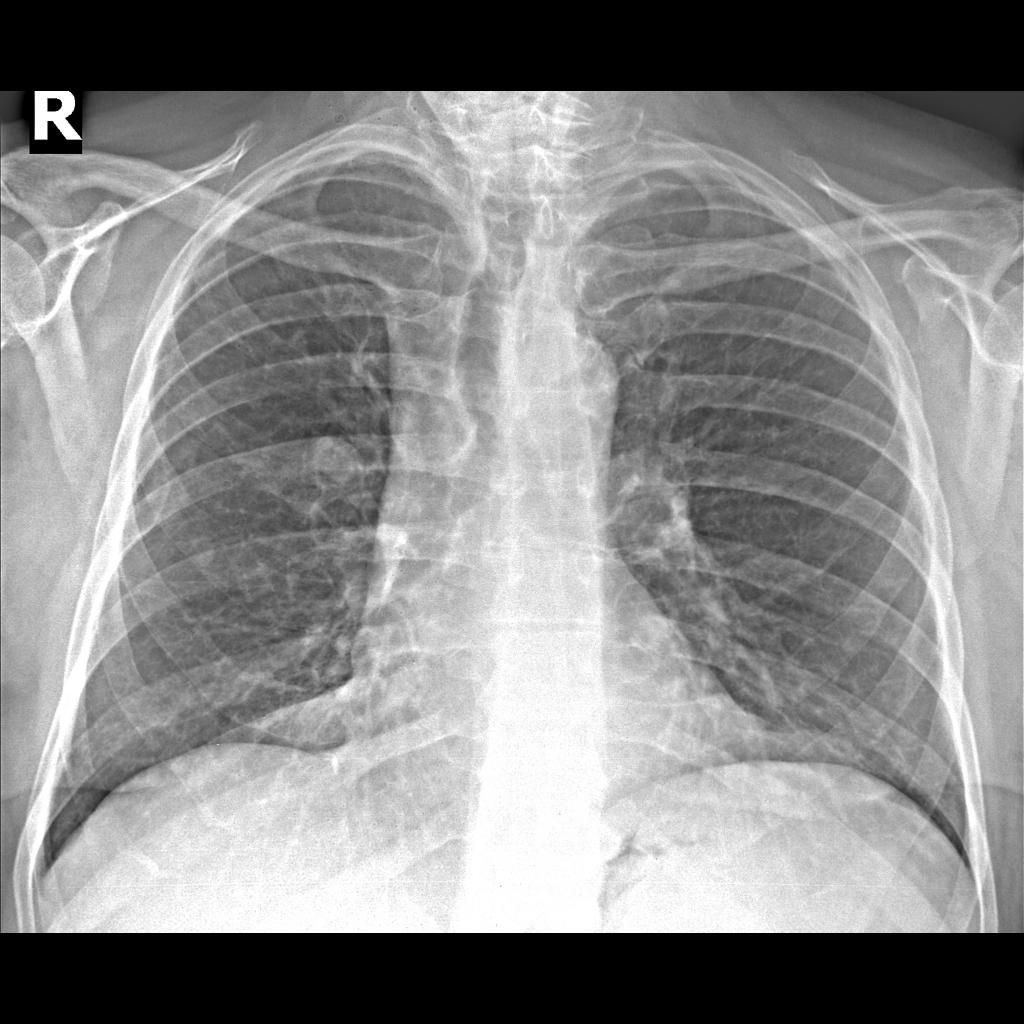Nodule: (302, 426, 366, 508), (627, 608, 686, 668), (184, 530, 223, 579)
